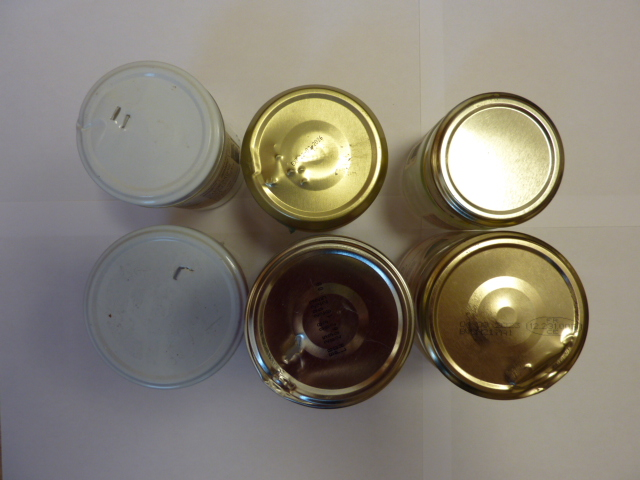damaged: (247, 238, 413, 408), (84, 226, 242, 388), (72, 62, 222, 205), (241, 88, 385, 226)
intact: (435, 95, 564, 223)
